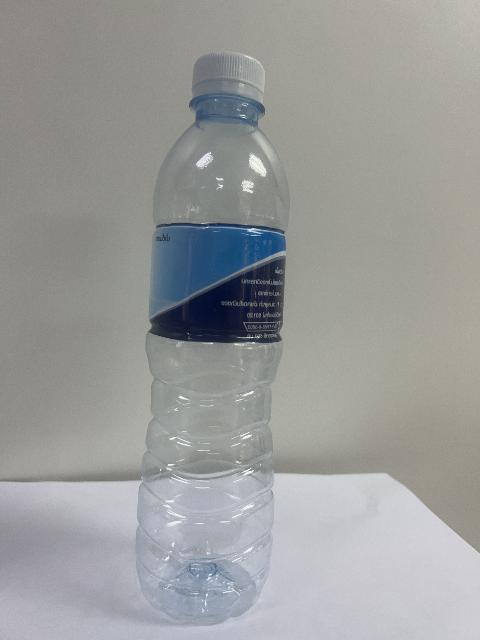bottle: (136, 52, 288, 624)
